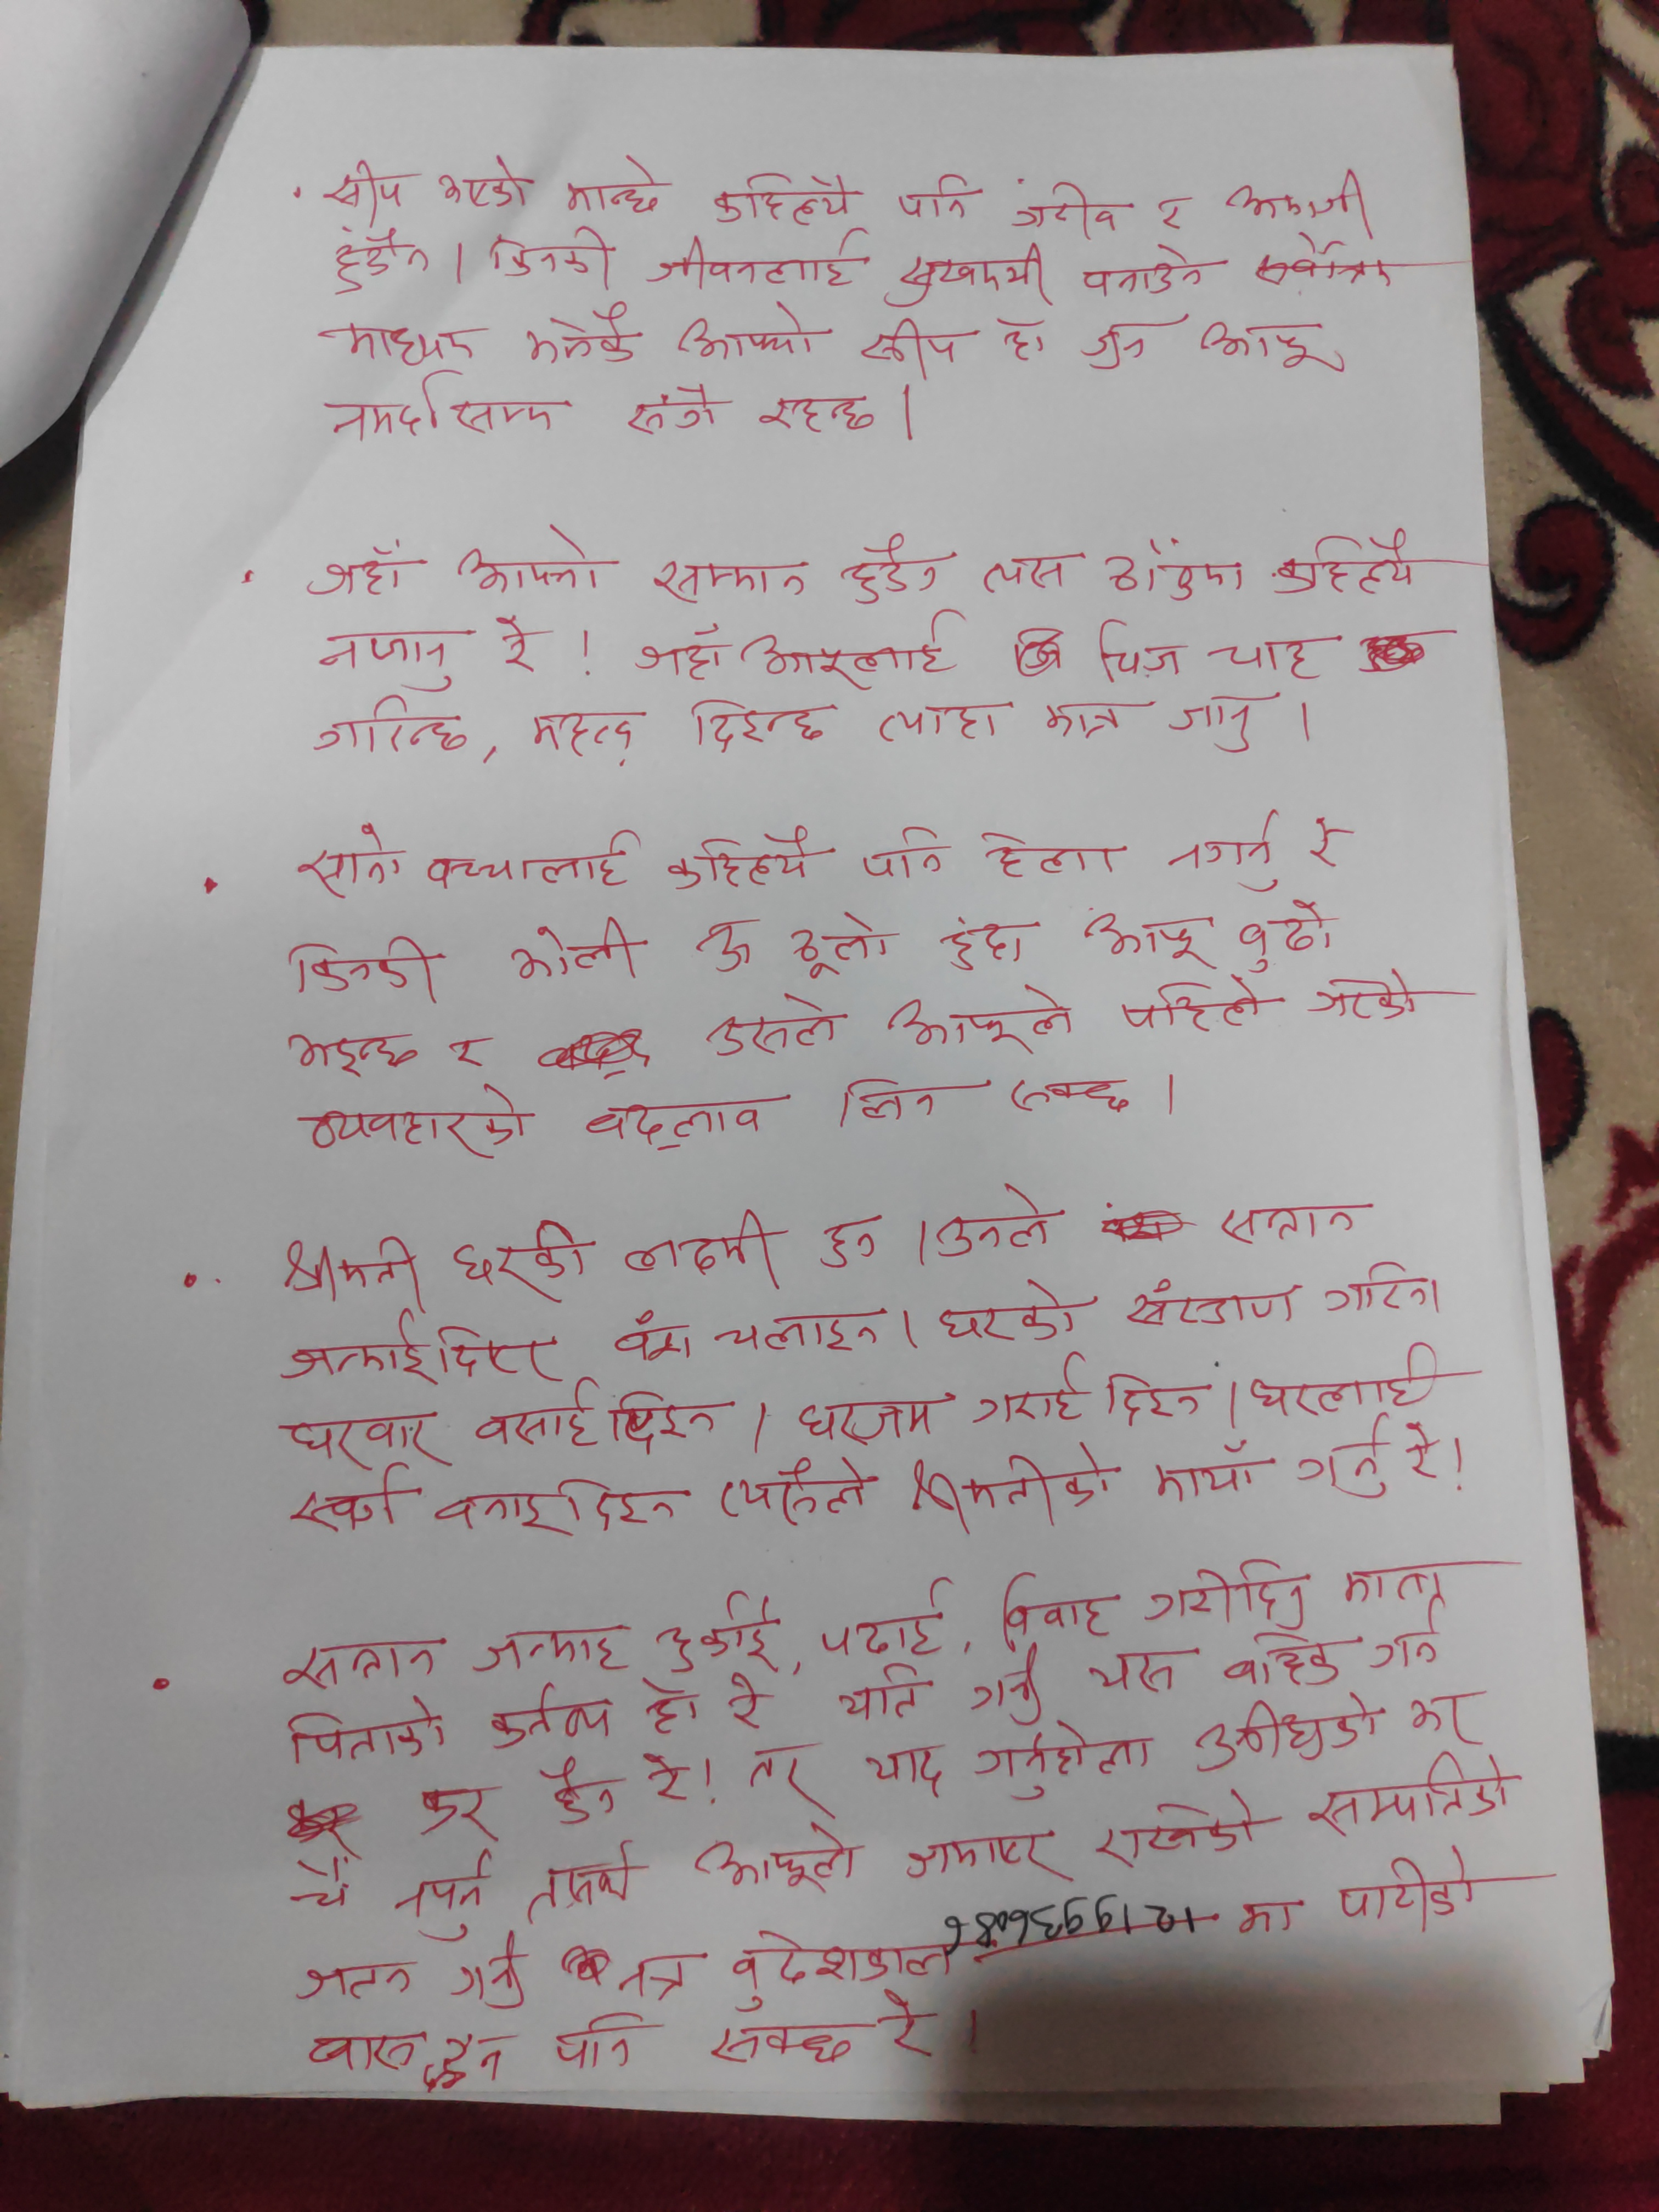text: (730, 1919, 951, 2015), (315, 366, 572, 442), (1300, 1757, 1520, 1843), (903, 1453, 1121, 1536), (878, 975, 1080, 1062), (301, 1085, 530, 1162), (418, 822, 640, 897), (430, 1475, 687, 1540), (1180, 1689, 1382, 1770), (969, 1726, 1155, 1804), (739, 620, 946, 690), (648, 230, 859, 298), (1328, 1848, 1480, 1939), (1091, 1792, 1269, 1869), (613, 1209, 786, 1287), (282, 1695, 453, 1773), (1248, 1346, 1445, 1414), (286, 927, 444, 1010), (451, 517, 613, 594), (284, 1306, 432, 1390), (1140, 1555, 1312, 1627), (1117, 1270, 1305, 1334), (713, 1456, 878, 1529), (817, 1575, 951, 1663), (1270, 528, 1431, 601), (662, 824, 830, 894), (584, 1094, 774, 1155), (685, 1827, 859, 1893), (674, 296, 824, 373), (450, 1219, 592, 1299), (279, 1404, 451, 1468), (936, 1273, 1086, 1346), (274, 1634, 448, 1696), (518, 1838, 638, 1928), (1169, 808, 1283, 904), (274, 1226, 425, 1296), (659, 1590, 788, 1672), (1199, 307, 1354, 374), (927, 1184, 1061, 1263), (896, 1822, 1068, 1883), (315, 697, 474, 763), (319, 625, 469, 695), (504, 916, 645, 988), (1121, 975, 1272, 1042), (432, 1322, 573, 1392), (708, 993, 845, 1064), (1110, 533, 1249, 603), (606, 1379, 732, 1456), (969, 1353, 1091, 1432), (295, 817, 406, 902), (486, 1677, 615, 1750), (720, 1305, 889, 1360), (992, 1568, 1117, 1642), (328, 219, 437, 305), (279, 1467, 410, 1538), (647, 552, 819, 606), (518, 298, 647, 369), (969, 824, 1124, 883), (1082, 906, 1220, 972), (685, 690, 830, 752), (795, 1392, 951, 1449), (1079, 237, 1215, 303), (870, 693, 1012, 756), (894, 242, 1054, 298), (1222, 172, 1373, 230), (390, 1853, 486, 1944), (286, 1026, 430, 1085), (708, 171, 857, 226), (833, 531, 943, 606), (1290, 1423, 1394, 1501), (471, 1623, 627, 1676), (854, 310, 971, 380), (486, 223, 622, 282), (1230, 894, 1331, 972), (791, 904, 894, 981), (471, 1393, 596, 1456), (523, 697, 641, 763), (1218, 1629, 1345, 1689), (293, 1947, 413, 2012), (301, 533, 418, 599), (335, 314, 476, 368), (1011, 176, 1126, 242), (1161, 688, 1272, 756), (1150, 1440, 1270, 1503), (708, 2019, 856, 2069), (762, 381, 884, 442), (1202, 625, 1335, 681), (1218, 1197, 1363, 1247), (1004, 1066, 1129, 1123), (1100, 1366, 1213, 1428), (1319, 1256, 1441, 1313), (559, 153, 671, 216), (298, 2020, 418, 2078), (830, 1073, 953, 1129), (443, 1942, 537, 2015), (1307, 968, 1427, 1024), (430, 153, 538, 214), (936, 909, 1040, 972), (1359, 1602, 1448, 1676), (1086, 622, 1188, 685), (537, 1752, 622, 1827), (964, 1653, 1051, 1726), (737, 1749, 826, 1820), (1075, 308, 1173, 373), (859, 824, 953, 890), (859, 1738, 953, 1804), (626, 374, 725, 435), (549, 2006, 641, 2069), (972, 545, 1079, 599), (636, 624, 730, 685), (833, 1663, 927, 1724), (319, 160, 413, 219), (1033, 688, 1136, 742), (814, 1212, 892, 1282), (1089, 1646, 1190, 1700), (275, 1855, 357, 1918), (430, 2027, 514, 2088), (1331, 1564, 1459, 1604), (410, 1782, 490, 1844), (892, 167, 981, 223), (685, 914, 765, 975), (1405, 1689, 1483, 1750), (610, 1313, 699, 1366), (620, 1951, 699, 2006), (875, 1987, 932, 2062), (1223, 1895, 1305, 1942), (488, 613, 538, 688), (716, 1676, 774, 1740), (641, 1743, 697, 1804), (648, 1677, 706, 1735), (1398, 1416, 1441, 1489), (990, 310, 1046, 364), (1302, 808, 1347, 871), (439, 1029, 497, 1073), (1147, 186, 1195, 233)
